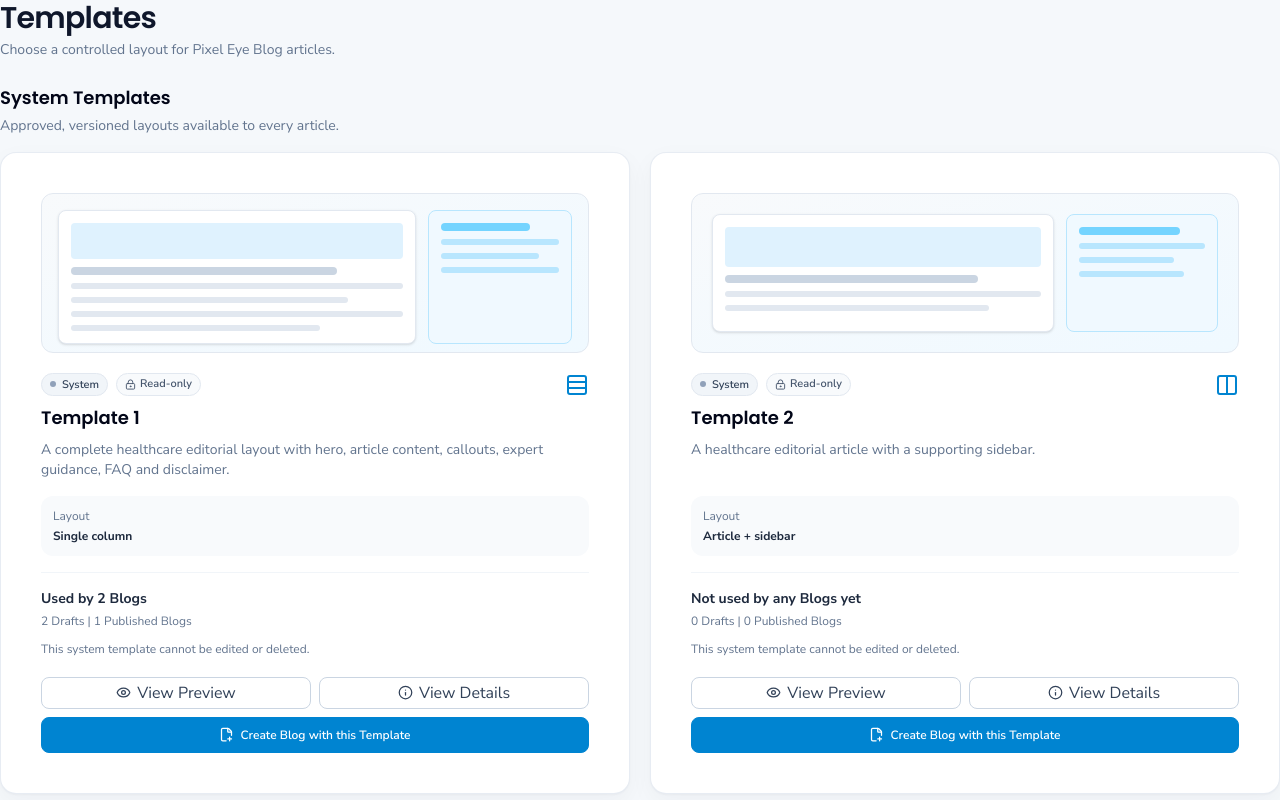
Test case: Templates workspace › opens safe details and both existing preview renderers
Expected: the heading "Template 1" is shown, [41,404,140,430]
What coordinates should you click on to do the following:
click the button "View Details" below "Not used by any Blogs yet"
I would click on:
 (1104, 692)
Its box is [969,676,1239,708].
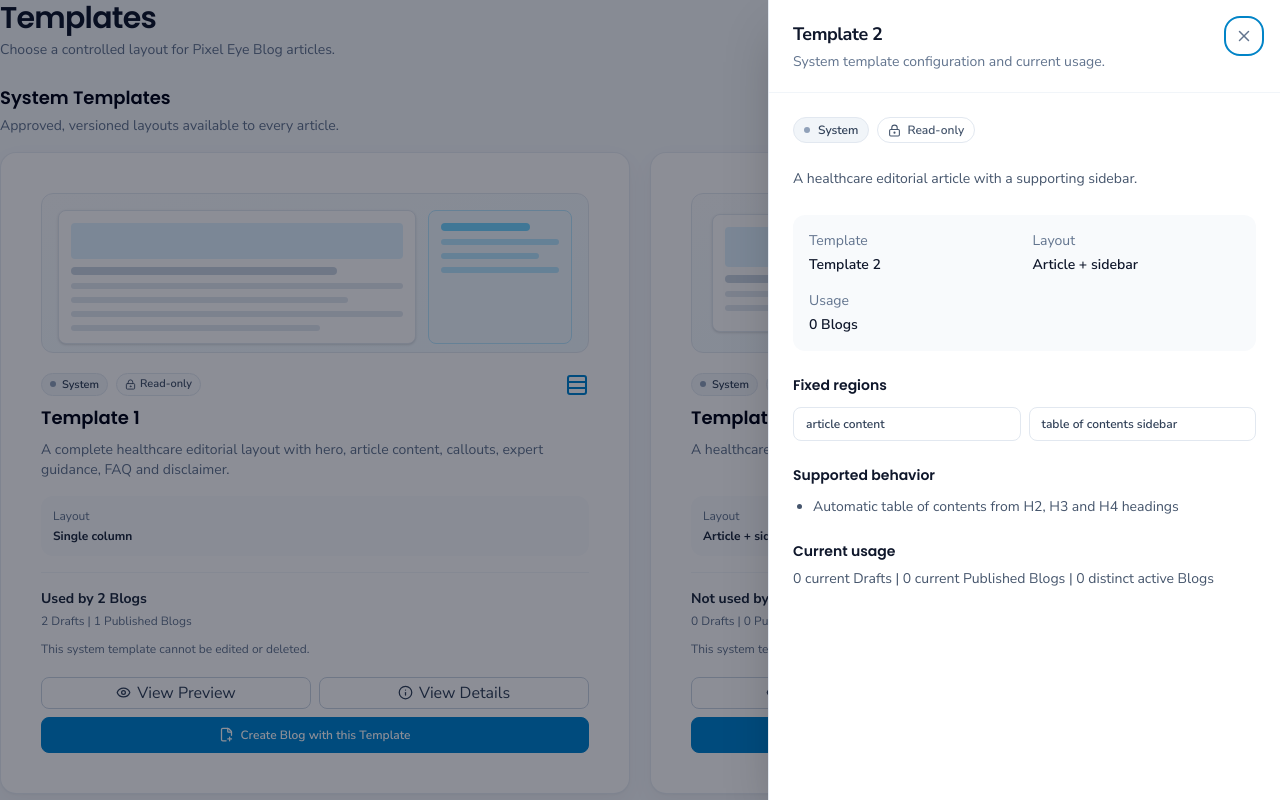
Expected: the dialog "Template 2" shows "table of contents sidebar", [1042,416,1177,432]
What coordinates should you click on to do the following:
click the button named "Close dialog"
I would click on:
 (1244, 36)
Its box is [1228,20,1260,52].
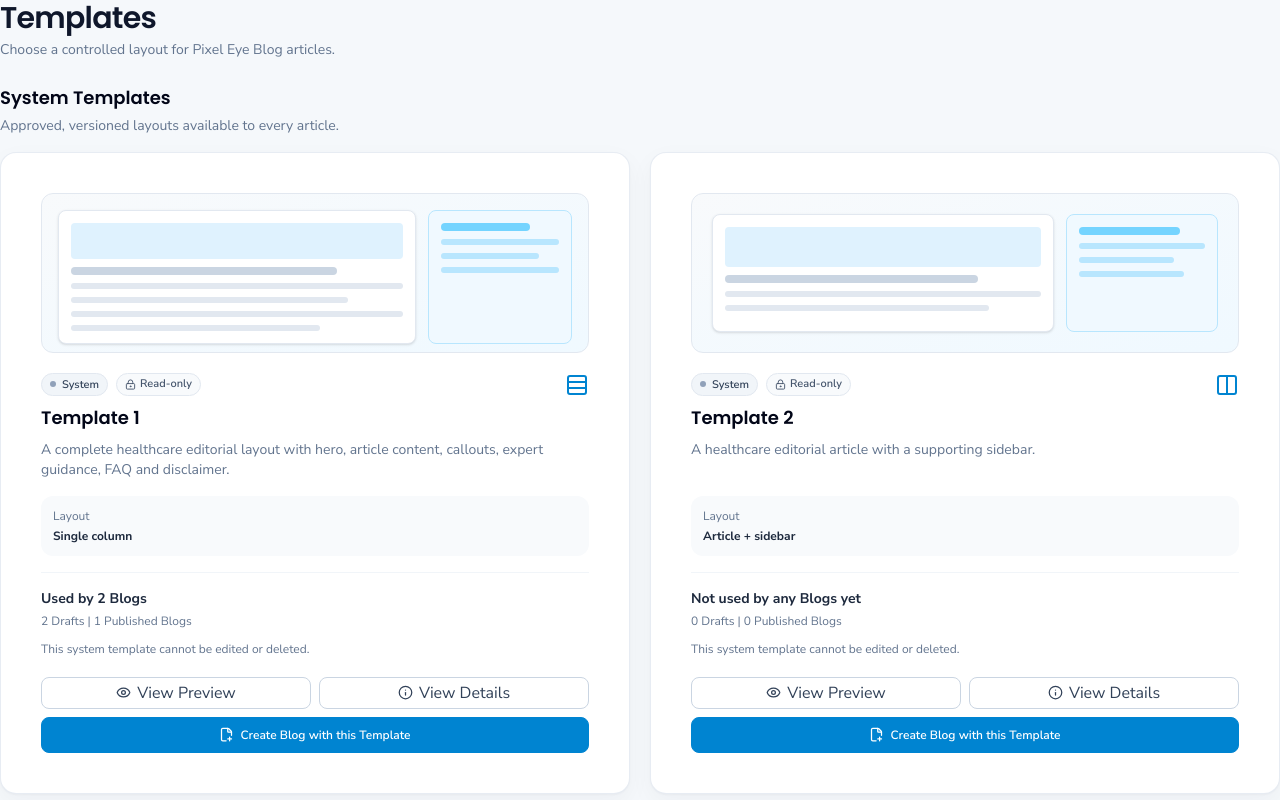
What coordinates should you click on to do the following:
click the button "View Preview" below "Used by 2 Blogs"
I would click on:
 (176, 692)
Its box is [41,676,311,708].
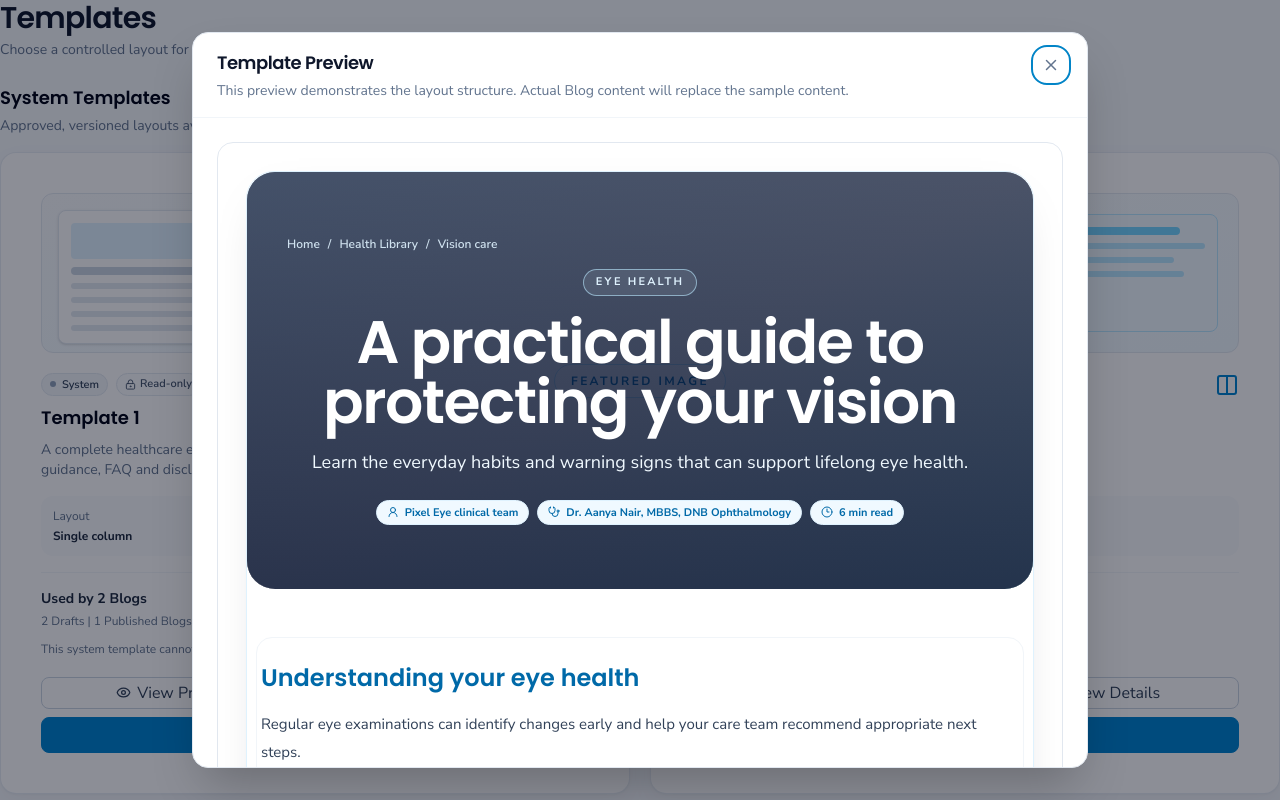
What coordinates should you click on to do the following:
click the button named "Close dialog" in the row of "Template Preview"
I would click on:
 (1051, 65)
Its box is [1035,49,1067,81].
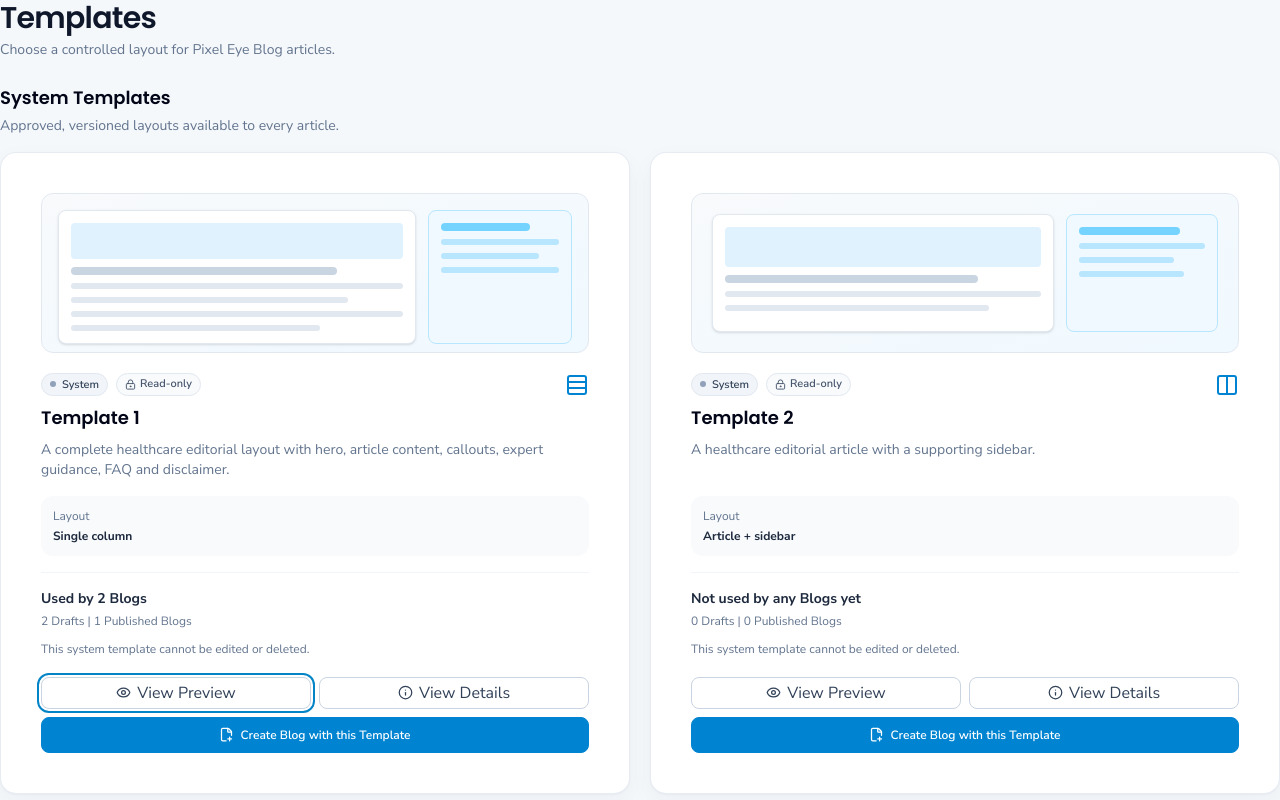
What coordinates should you click on to do the following:
click the button "View Preview" below "Not used by any Blogs yet"
I would click on:
 (826, 692)
Its box is [691,676,961,708].
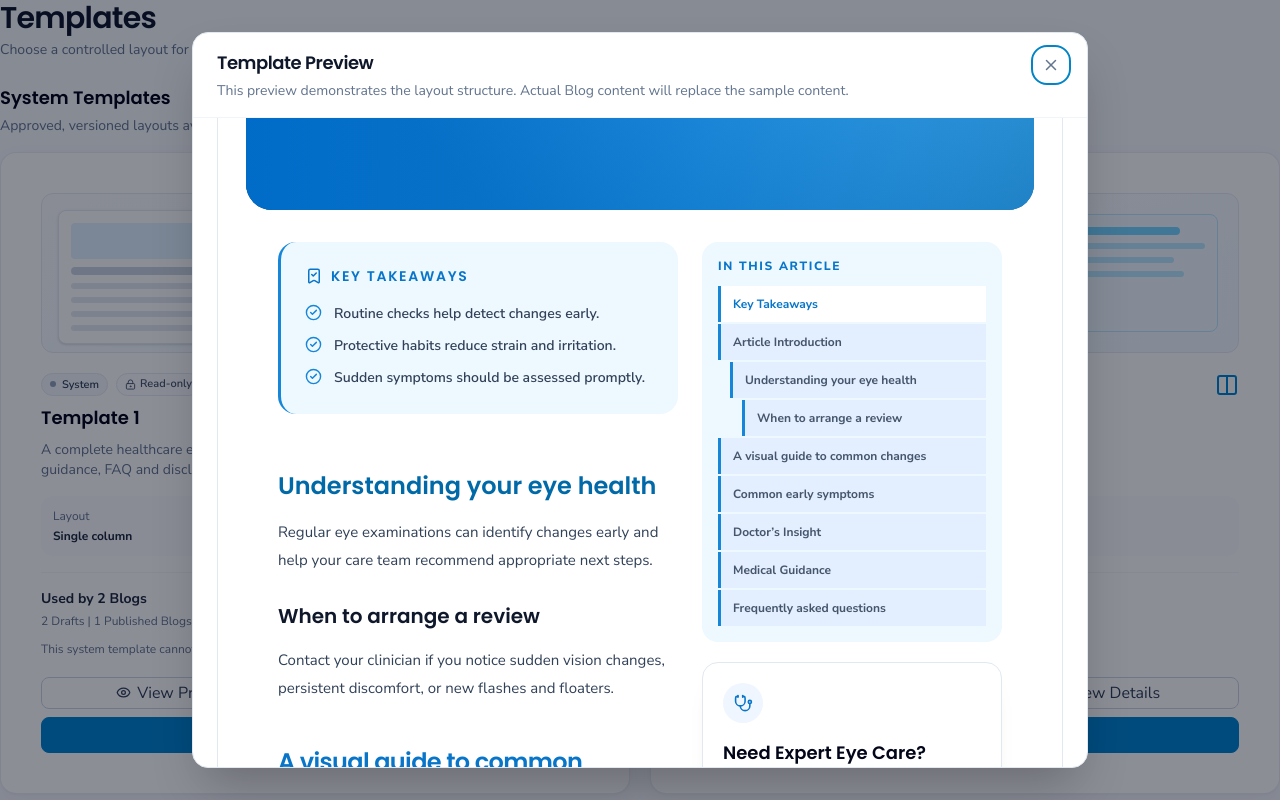
Expected: the navigation bar named "Table of contents" is shown, [718,258,986,626]
